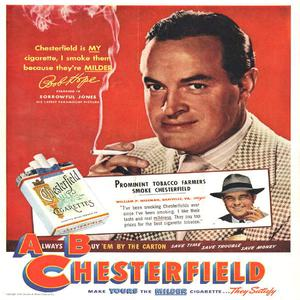cigarette: (86, 147, 136, 161)
